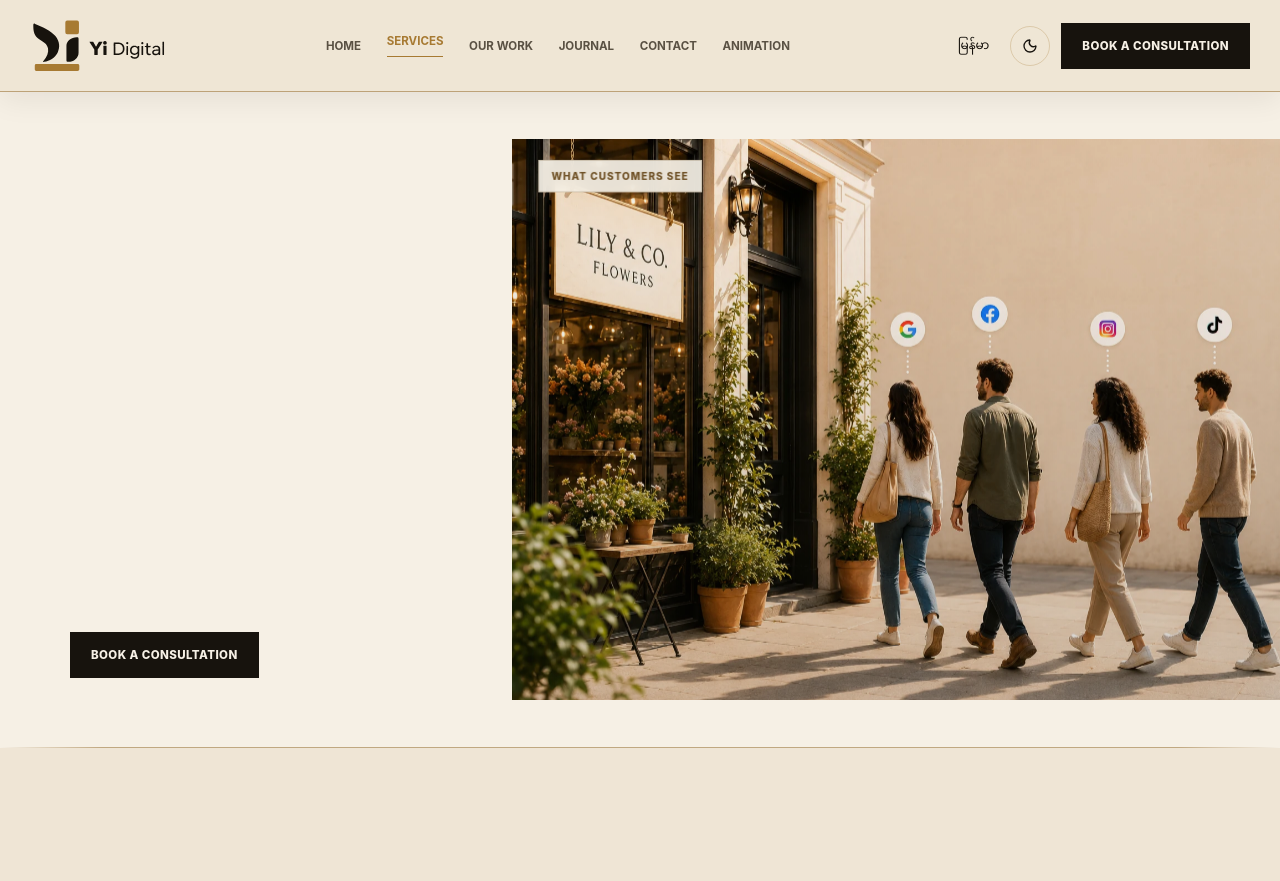
Test: Yi Digital › renders the structured Burmese package content
The image size is (1280, 881).
Click the button named "switch to Myanmar language". click: (974, 46)
box: top-left (948, 22), bottom-right (999, 68)
(page scrolled)
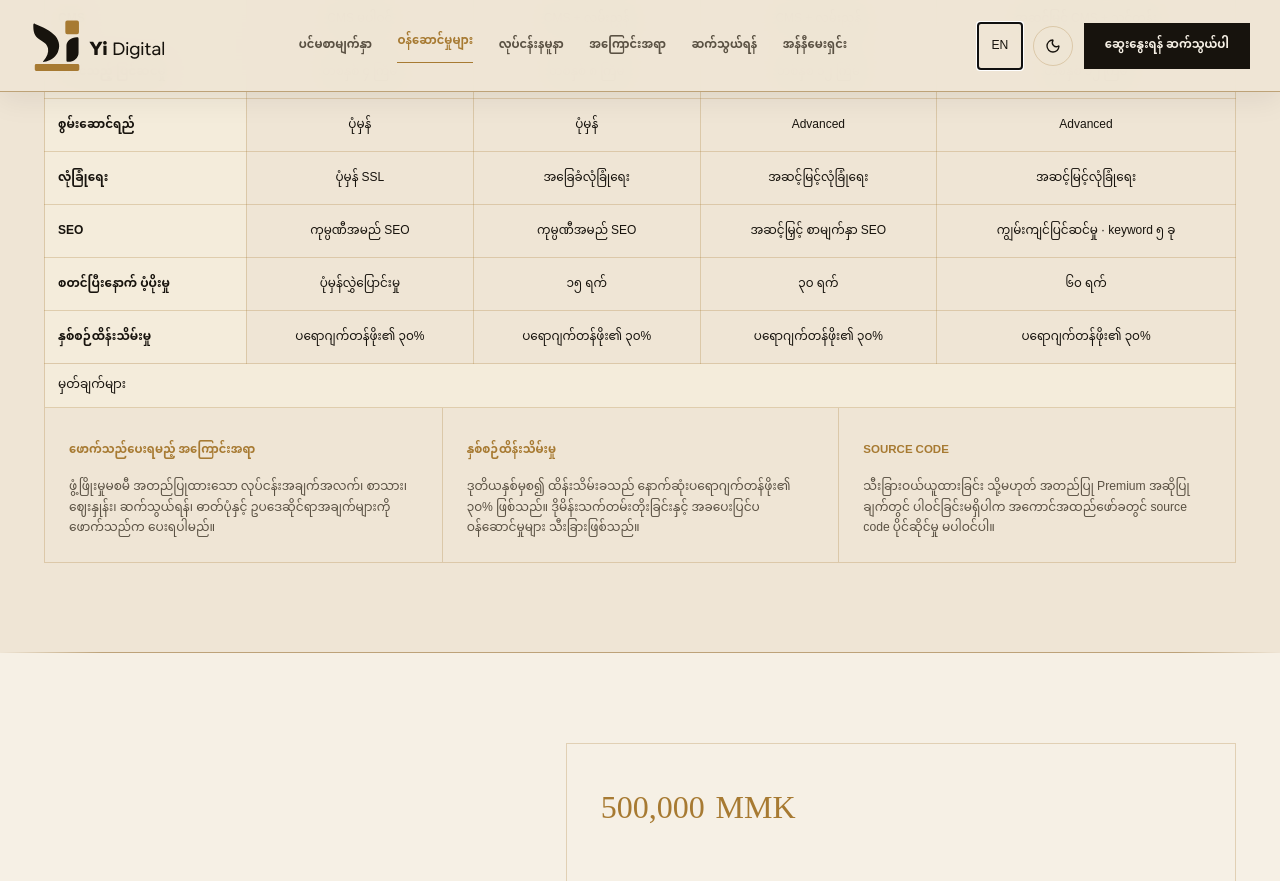
Expected: the text "ဖောက်သည်ပေးရမည့် အကြောင်းအရာ" is shown, top-left (69, 438), bottom-right (255, 463)
